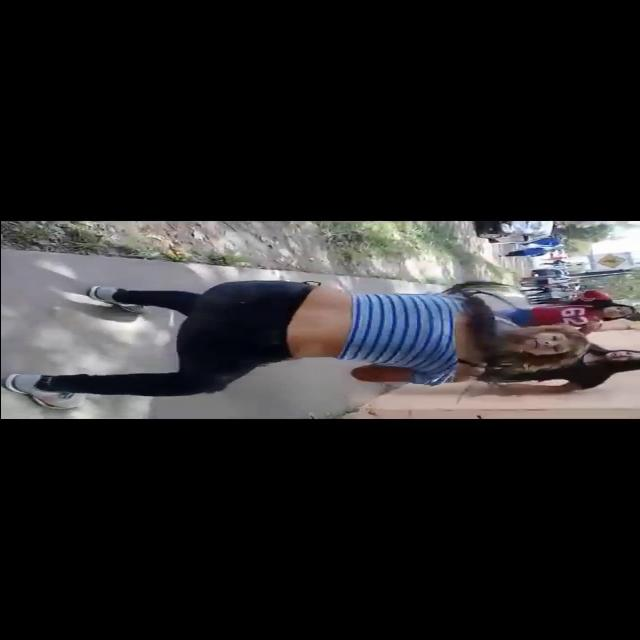Violence: (154, 284, 585, 388)
